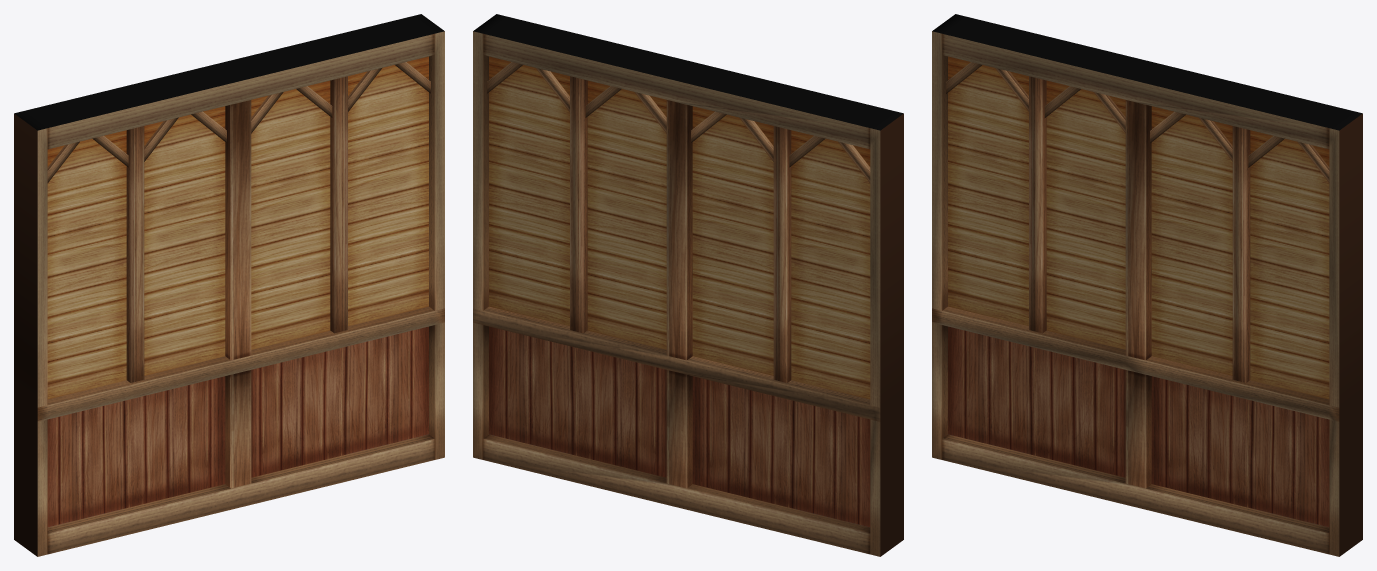
The model's file is a_SWGiwall01A.glb.
3 views of the same model, side by side, from view 1: azimuth 30°, elevation 25°; view 2: azimuth 150°, elevation 25°; view 3: azimuth 330°, elevation 25° (orthographic).
Visible parts, largest first — view 1: a_SWGiwall01A; view 2: a_SWGiwall01A; view 3: a_SWGiwall01A.
Part boxes in pixels (<box>): a_SWGiwall01A: <box>14,14,444,556</box>; a_SWGiwall01A: <box>473,14,903,556</box>; a_SWGiwall01A: <box>932,14,1362,556</box>.
Size of the model in its own units: 3 by 3 by 0.3004.
3 materials, 3 textured.
